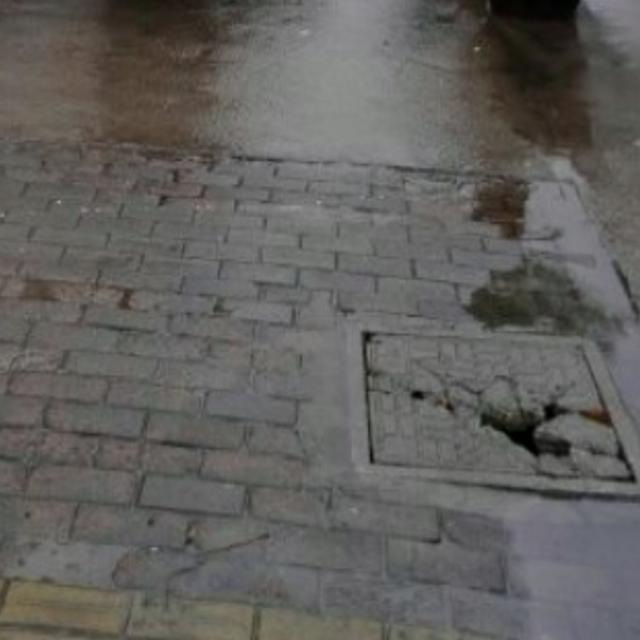broke: (350, 321, 640, 500)
